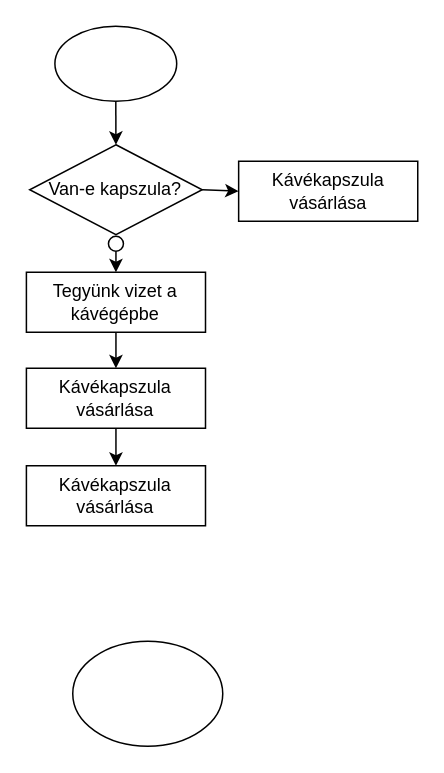
The diagram is 444 pixels wide and 773 high, and some of its shapes have lost their labels. Each missing label, with the centre of its shape:
"Start" belongs at [115,63].
"Stop" belongs at [147,693].
